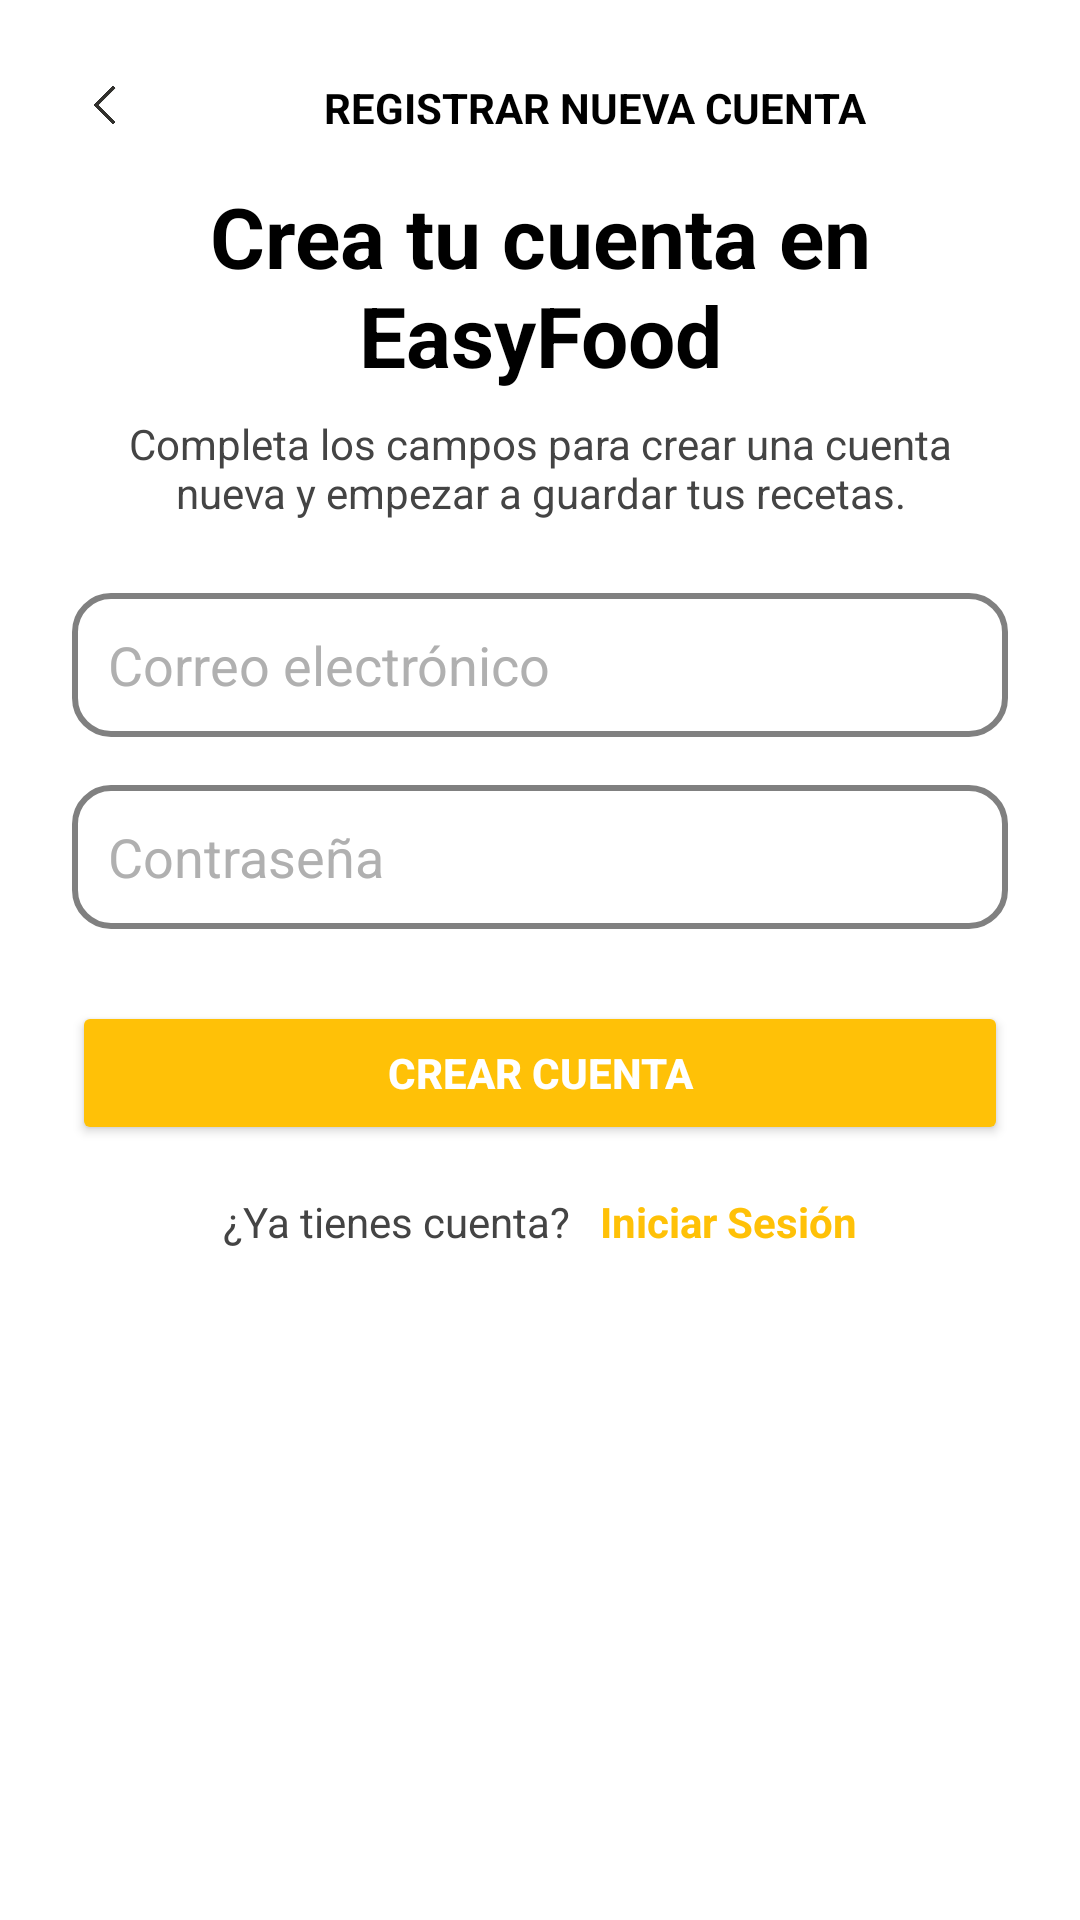

Icons on this 1080 x 1920 Android screen, each with the point to tap as (x=x, y=y):
volver: (x=104, y=105)
